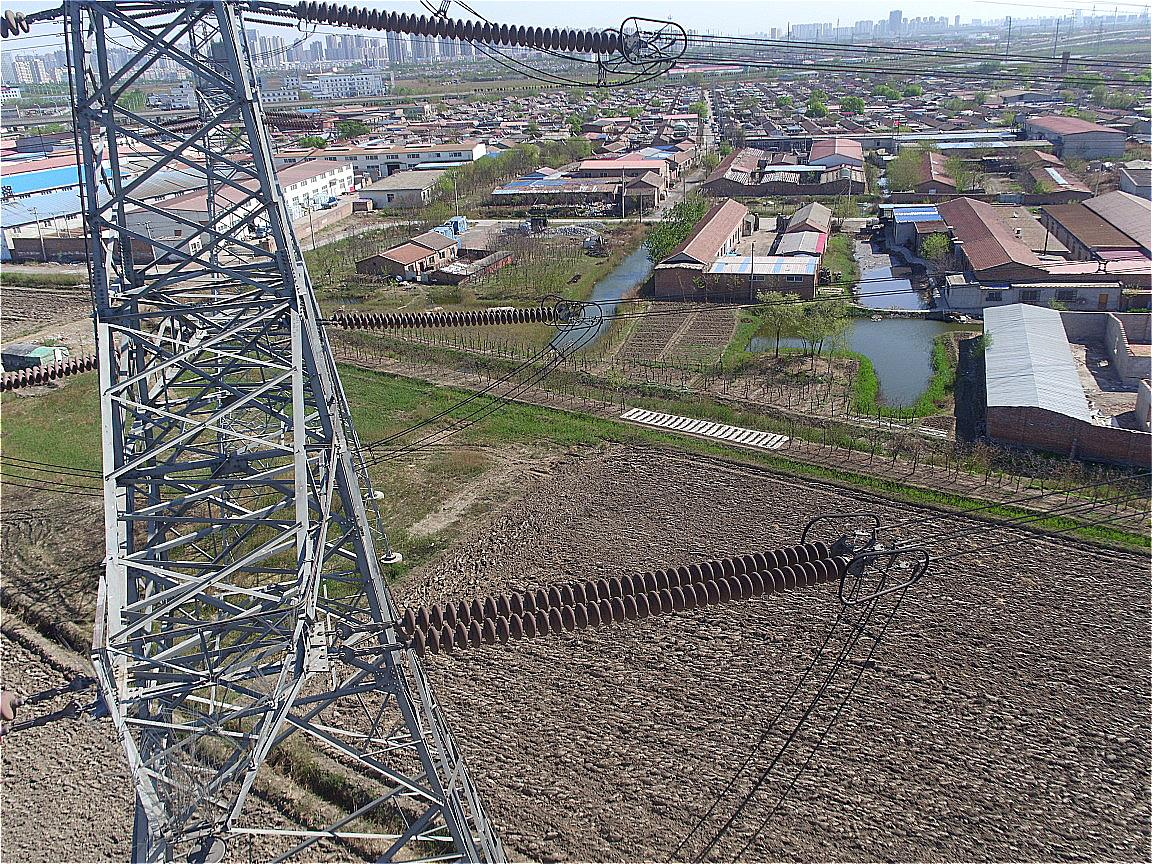insultor1: (406, 541, 851, 657), (298, 2, 620, 51), (334, 303, 558, 333)
